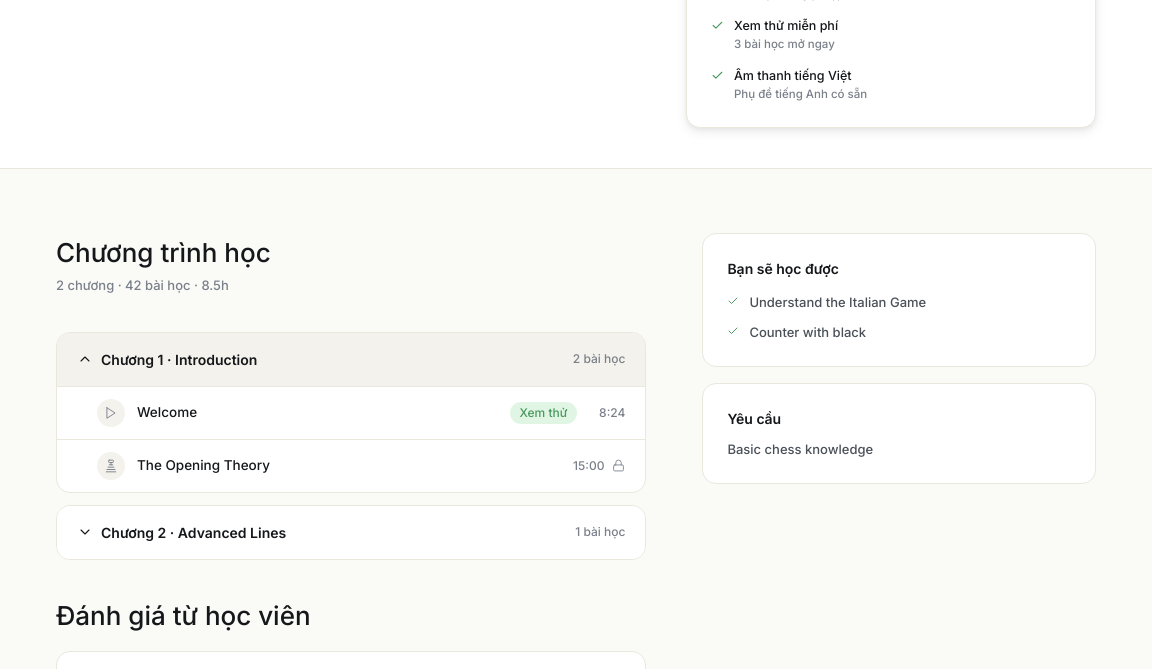
CourseDetailPage › curriculum accordion › clicking an expanded chapter header collapses it
(page scrolled)
Check: the text "Welcome" is shown, box [137,404,197,420]
Click the button with test id "chapter-header-ch1" at (179, 359), box [57,332,645,386]
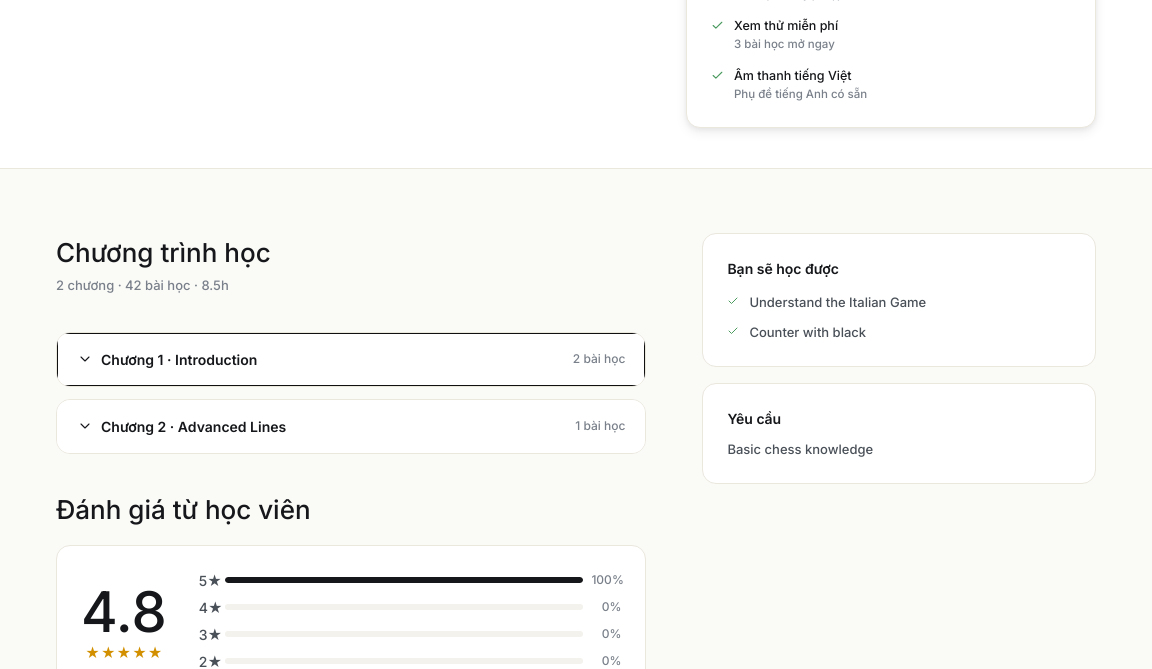
Check: the text "Welcome" is gone
